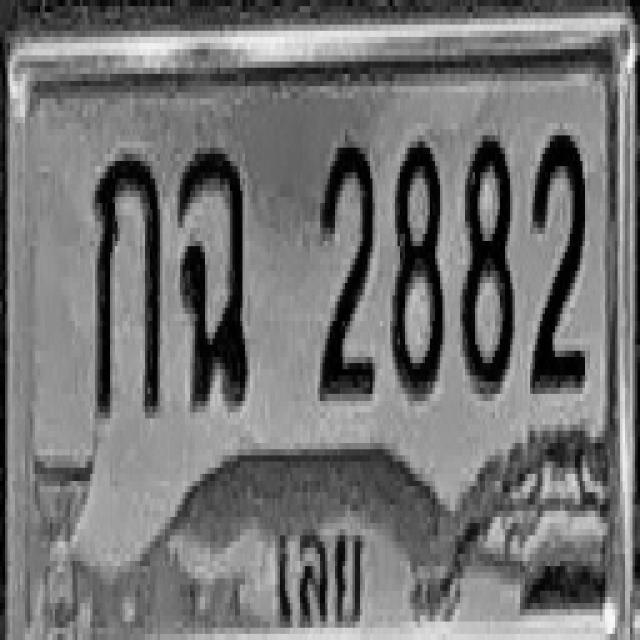10GorGai: (92, 151, 160, 415)
18ChorChing: (178, 145, 248, 403)
2: (318, 135, 374, 394), (530, 129, 585, 388)
8: (460, 129, 512, 394), (390, 135, 442, 394)
Loei: (267, 510, 366, 630)
